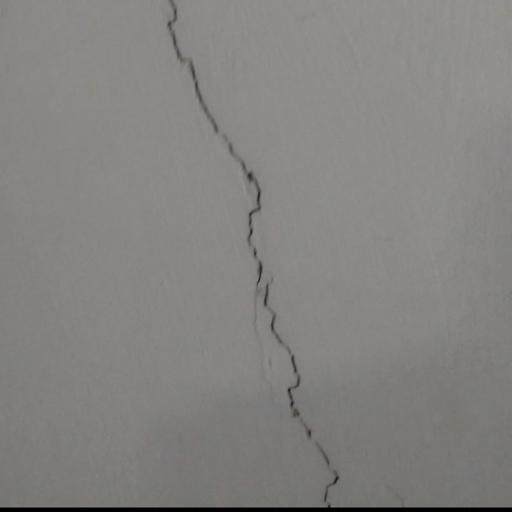major_crack: (152, 0, 346, 506)
